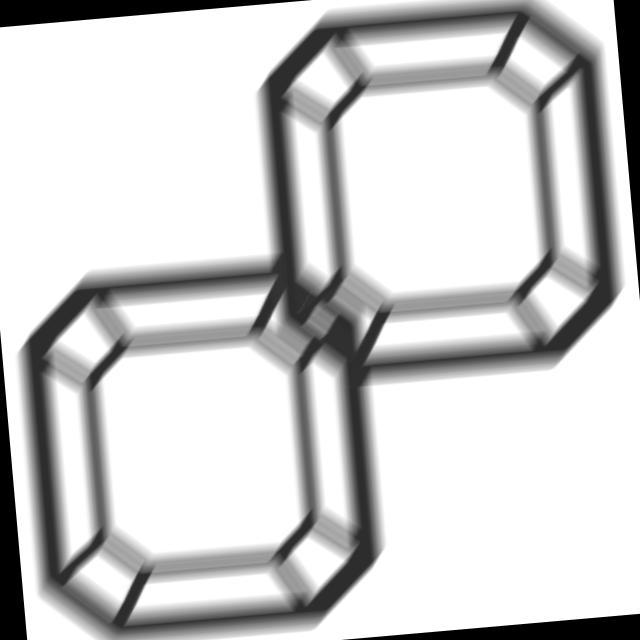emerald: (225, 1, 640, 407), (3, 241, 401, 640)
